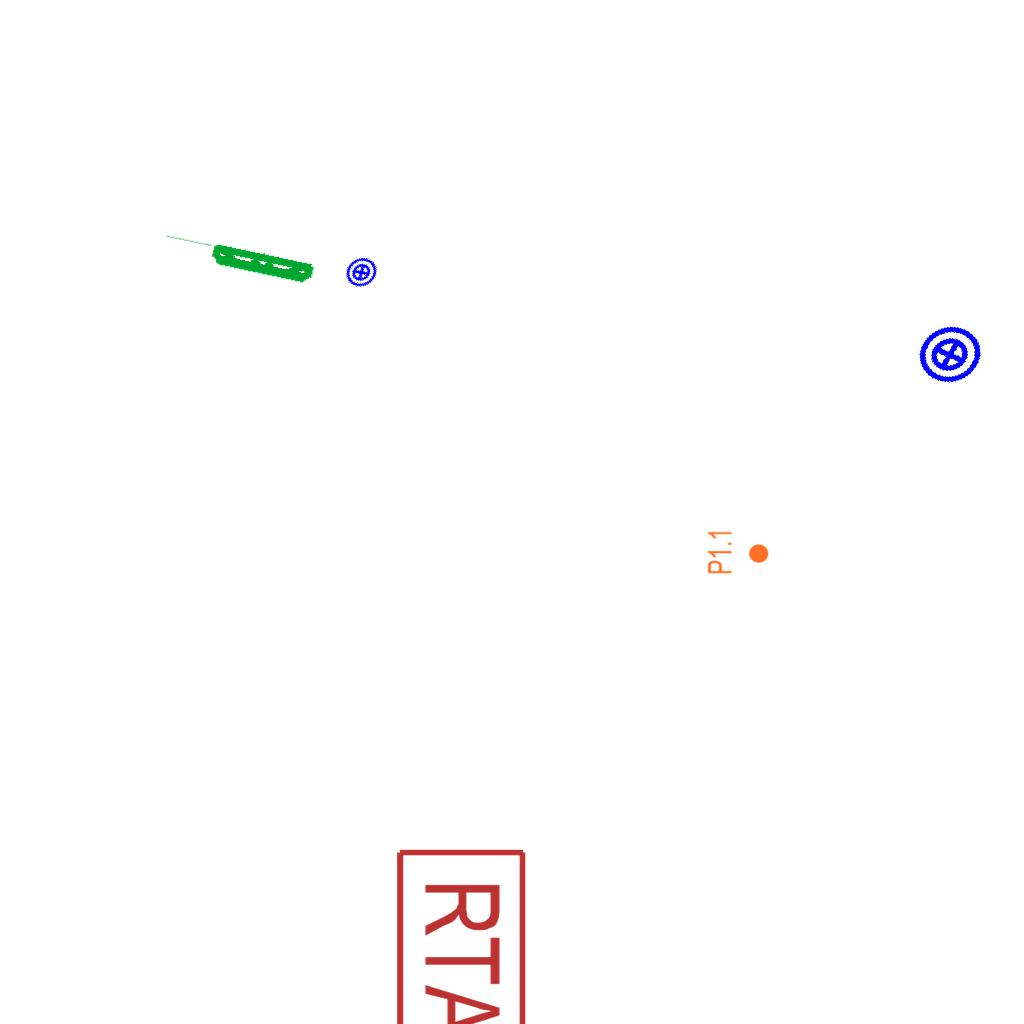Downlight_LED_Einbauleuchten_Flur_2: (706, 529, 770, 575)
Ruf-und_Abstelltaster: (392, 842, 530, 1024)
Sicherheitsleuchte_Wandeinbau: (157, 230, 318, 289)
Taster_beleuchtet: (908, 313, 992, 397), (338, 249, 385, 296)
